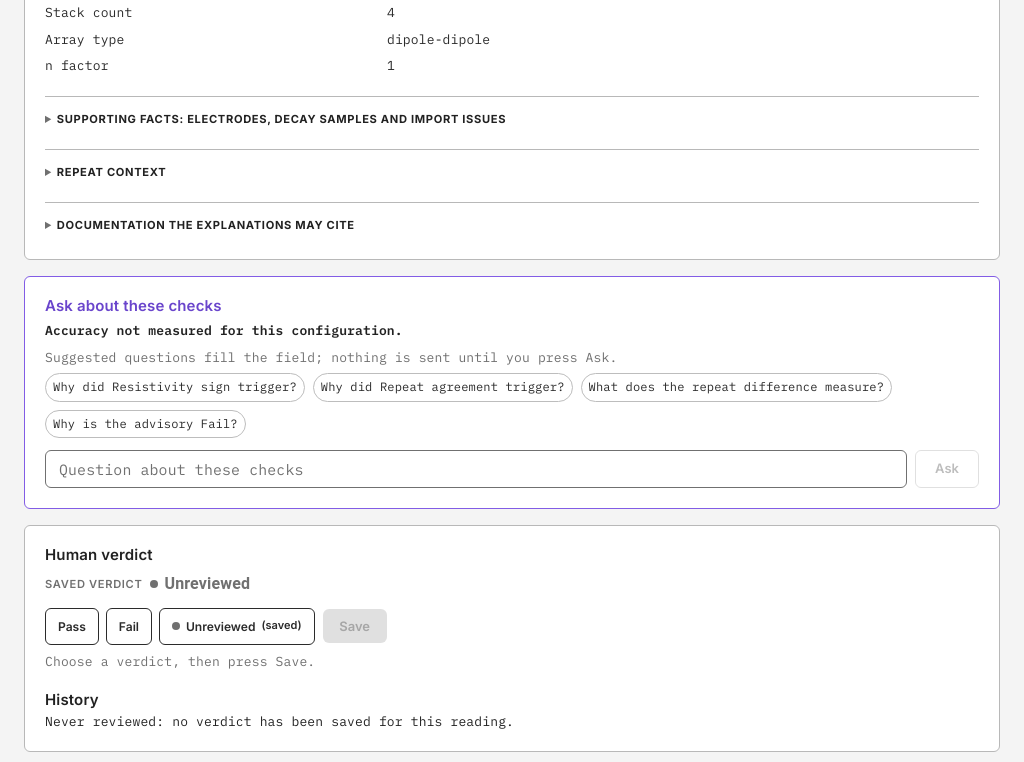
Test: asking › shows a failed request as an error, with no answer
(page scrolled)
Type "Why?" into the field labelled "Question about these checks" at (476, 469), box [45,450,907,488]
Then press Enter
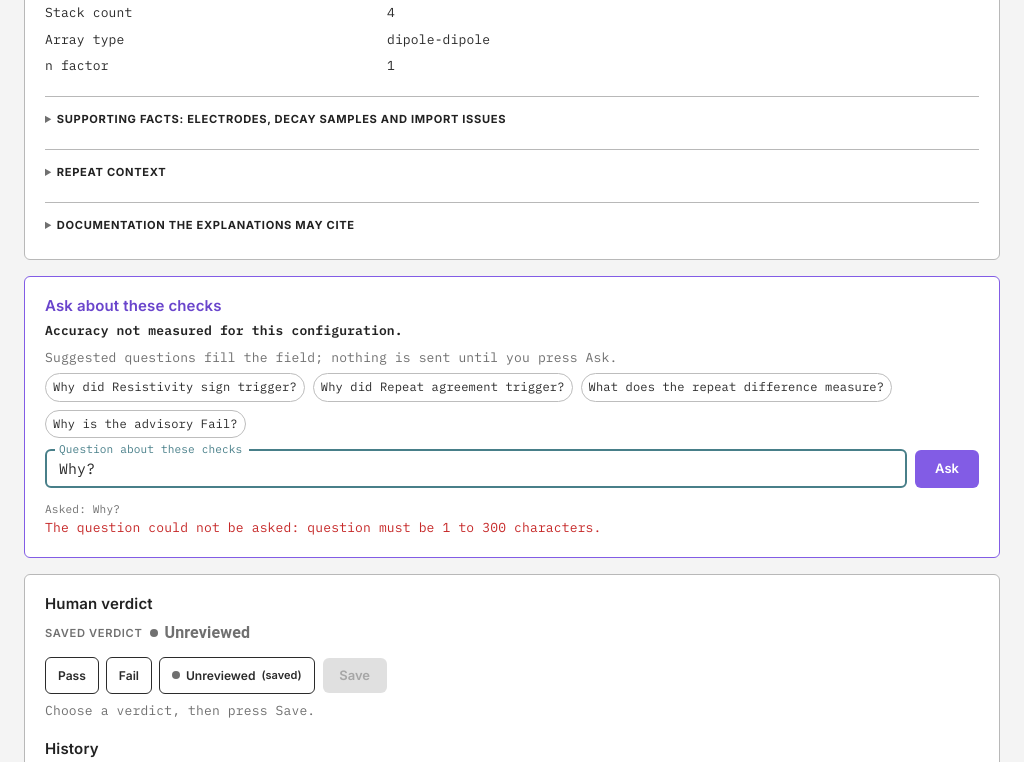
Result: the message "The question could not be asked: question must be 1 to 300 characters." is shown at [45,518,602,536]
